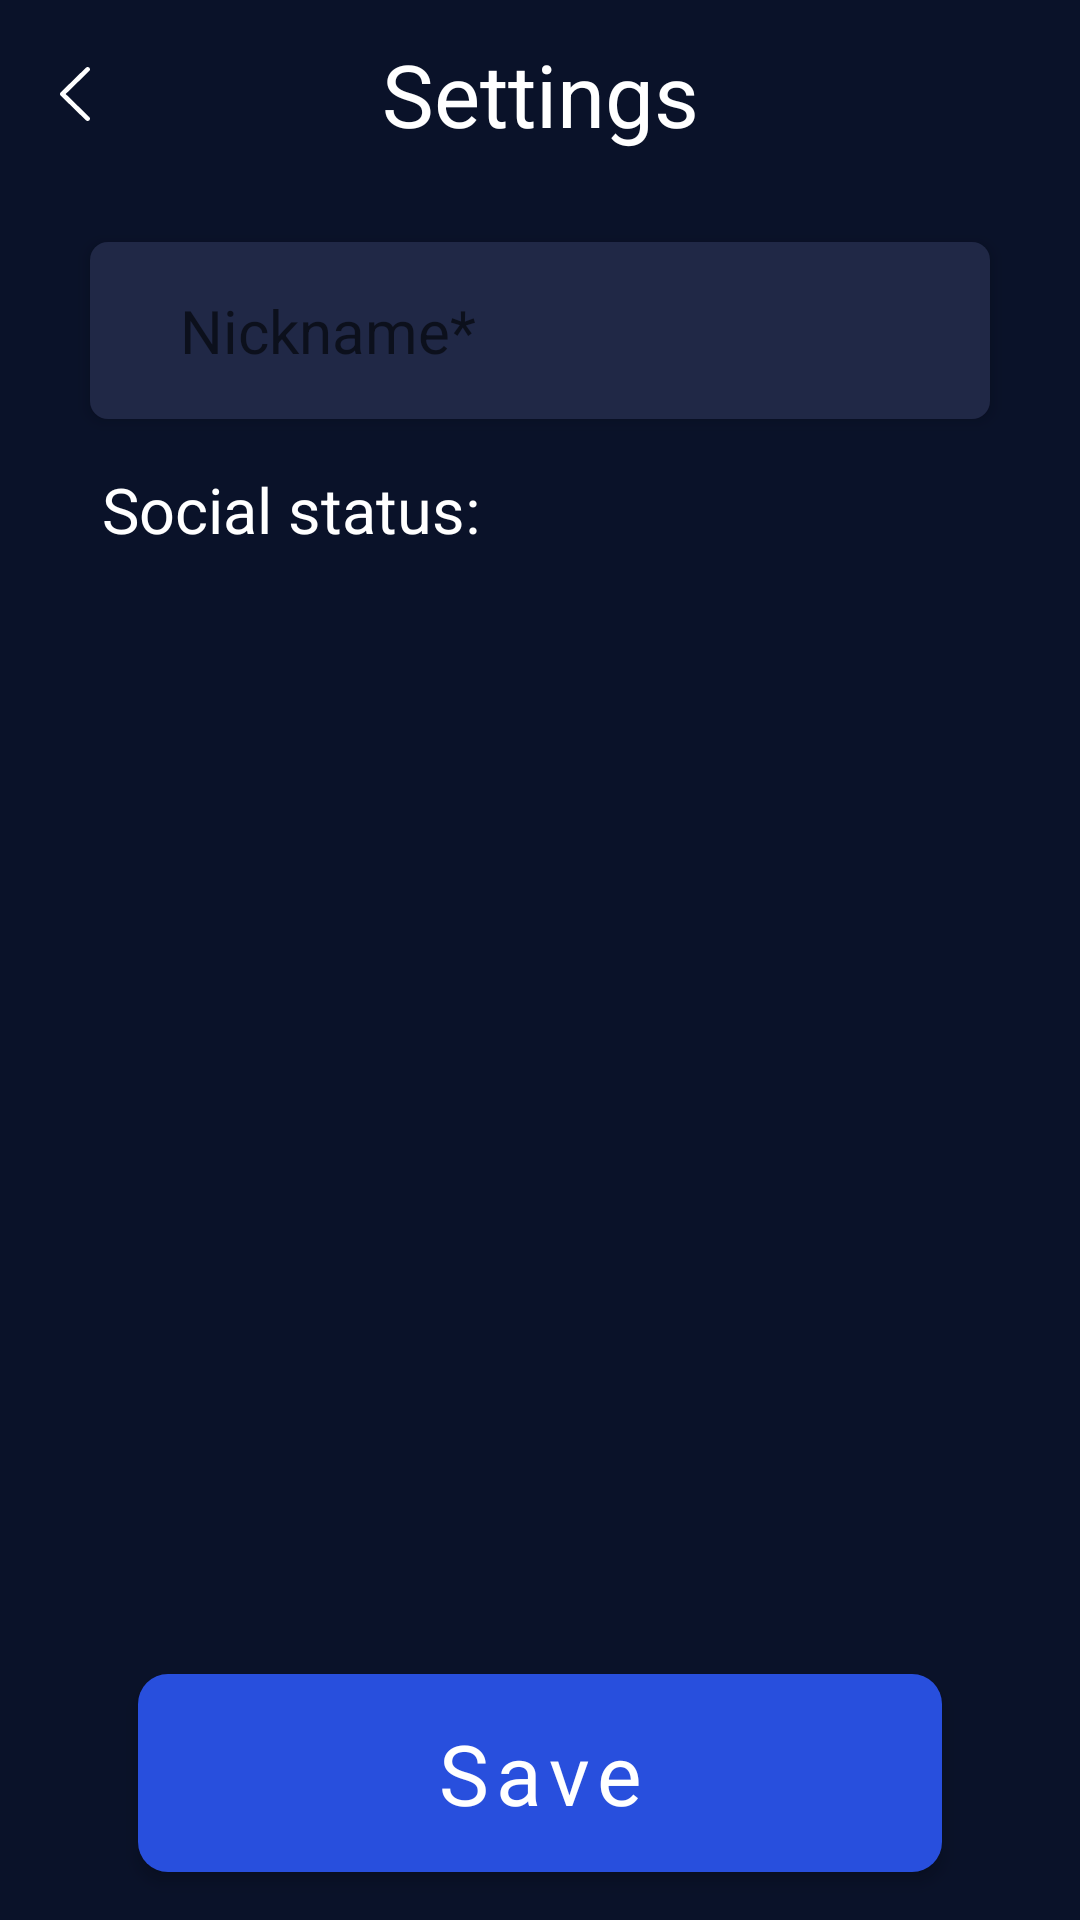

Screen size 1080*1920. Icon name, then its center in pixels as (x=x, y=y):
back: (x=75, y=94)
